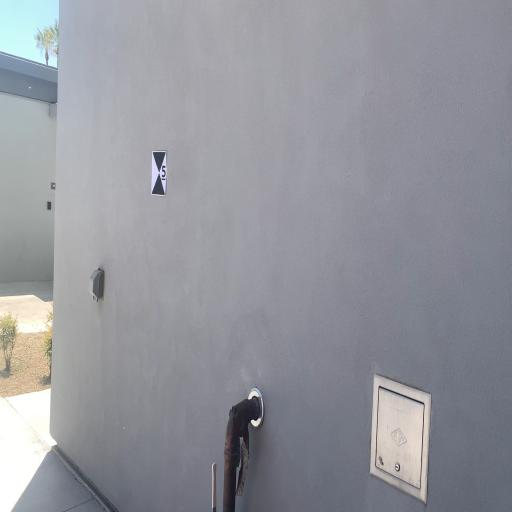target5: (151, 151, 167, 195)
